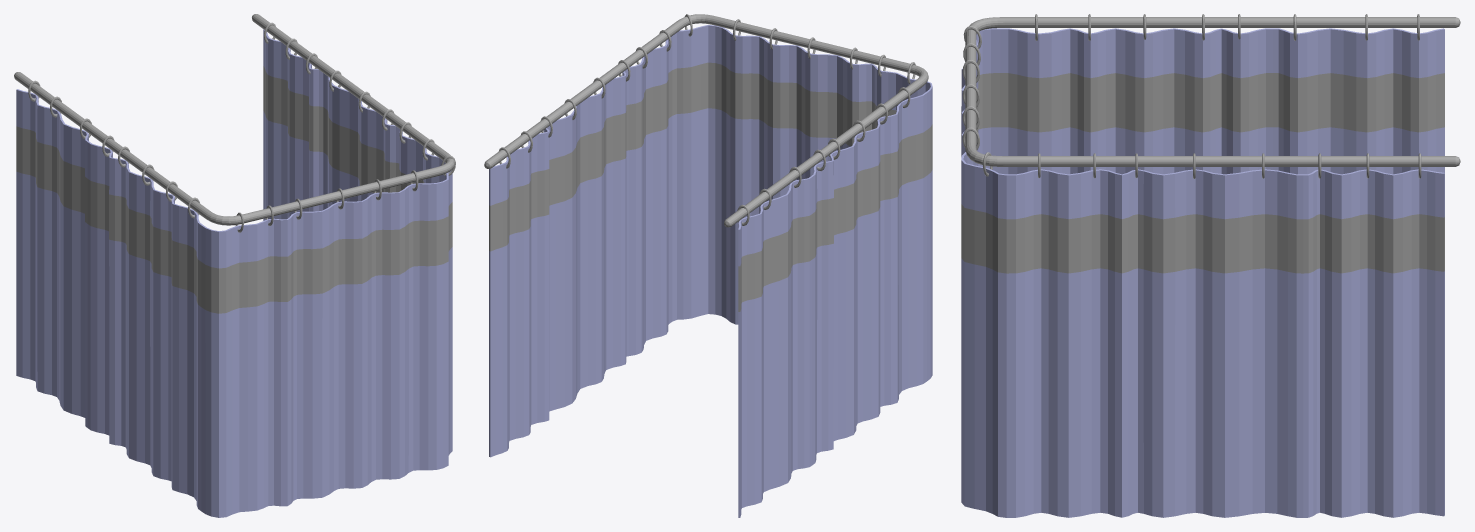
The model's file is Hanging Curtain Closed.fbx.
The picture shows the model from 3 angles, left to right: view 1: azimuth 30°, elevation 25°; view 2: azimuth 150°, elevation 25°; view 3: azimuth 270°, elevation 25°; orthographic projection. The views are drawn at different scales.
Visible parts, largest first — view 1: Curtain, Rod, Connectors; view 2: Curtain, Rod, Connectors; view 3: Curtain, Rod, Connectors.
Part boxes in pixels (left/top/right/bottom): Curtain: left=16, top=29, right=452, bottom=517; Rod: left=14, top=14, right=454, bottom=225; Connectors: left=28, top=22, right=455, bottom=232; Curtain: left=489, top=25, right=932, bottom=517; Rod: left=484, top=14, right=928, bottom=227; Connectors: left=498, top=14, right=915, bottom=225; Curtain: left=961, top=28, right=1444, bottom=517; Rod: left=965, top=17, right=1460, bottom=166; Connectors: left=962, top=14, right=1421, bottom=178.
Bounding box in the file's own units: 20.28 × 23.16 × 29.06.
